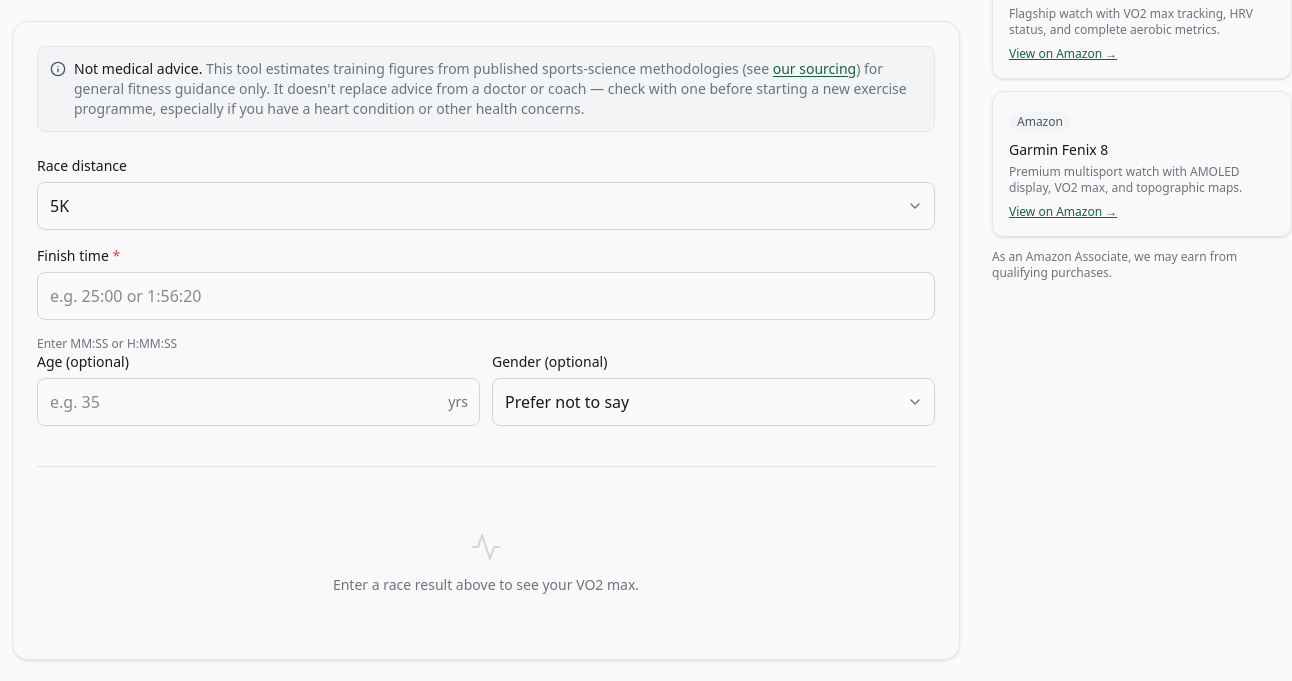
Test: Vo2max page › shows general ACSM reference table when no age/gender entered (AC11)
In the field labelled "Finish time *": coordinates (486, 296) [37,272,935,320], type "25:00"
(page scrolled)
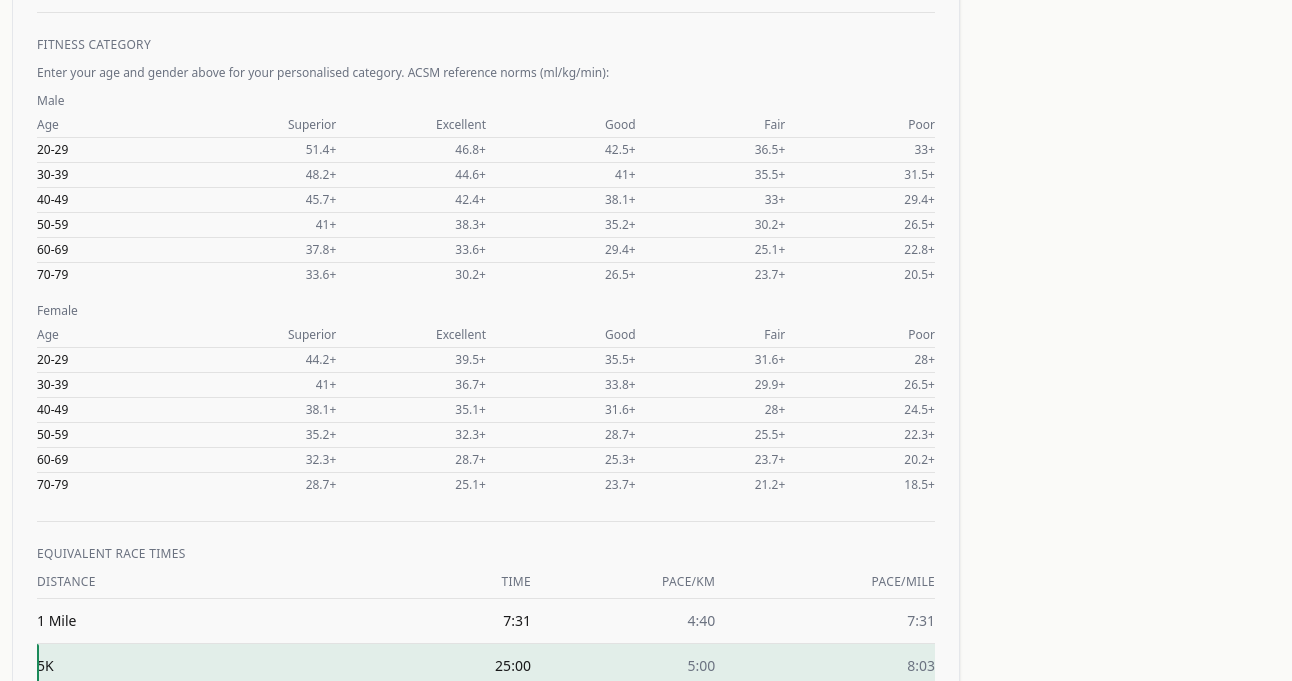
Expected: the element with test id "acsm-reference-table" is shown, [37,65,935,497]
